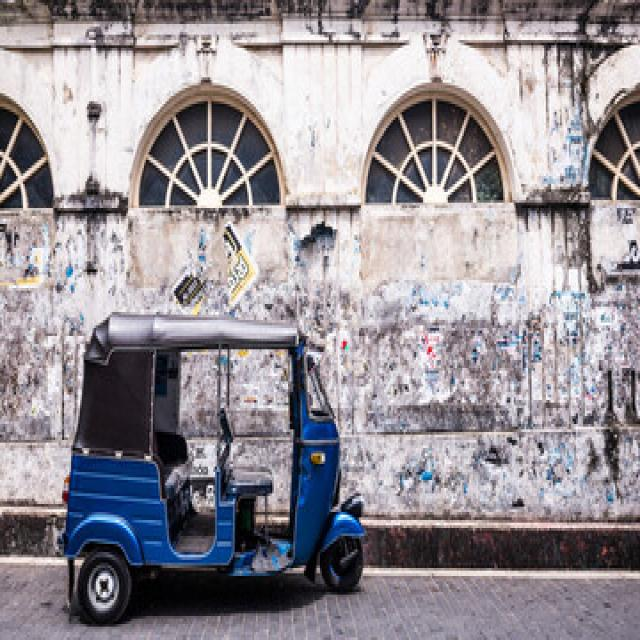three wheeler: (62, 312, 361, 621)
